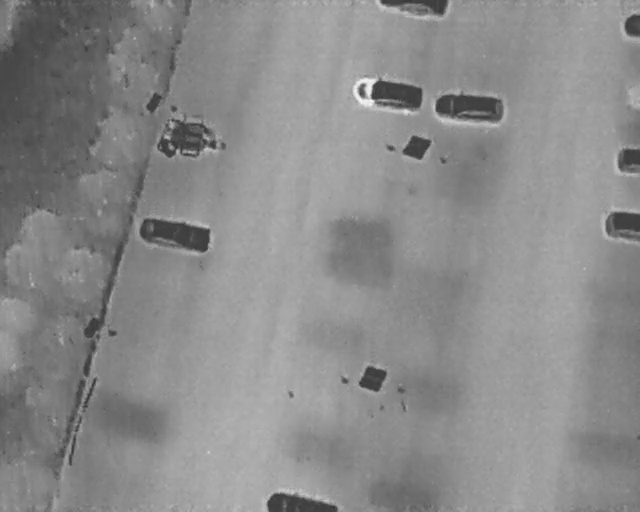Car: (137, 211, 215, 257), (350, 70, 425, 113), (435, 86, 506, 123), (266, 492, 337, 512), (377, 1, 448, 18), (605, 209, 640, 242), (617, 145, 640, 175), (622, 14, 640, 37)
